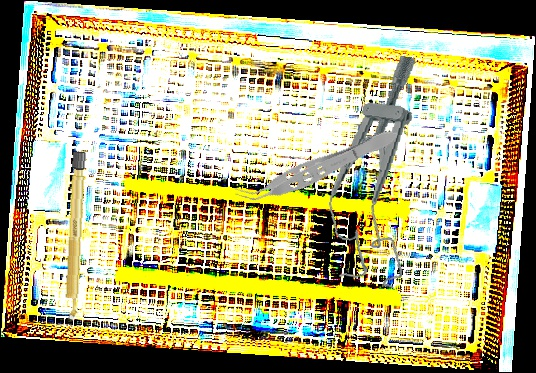Scalpel Handle: (62, 150, 87, 324)
Speculum: (318, 48, 433, 290)
Tissue Forceps: (232, 121, 403, 214)
